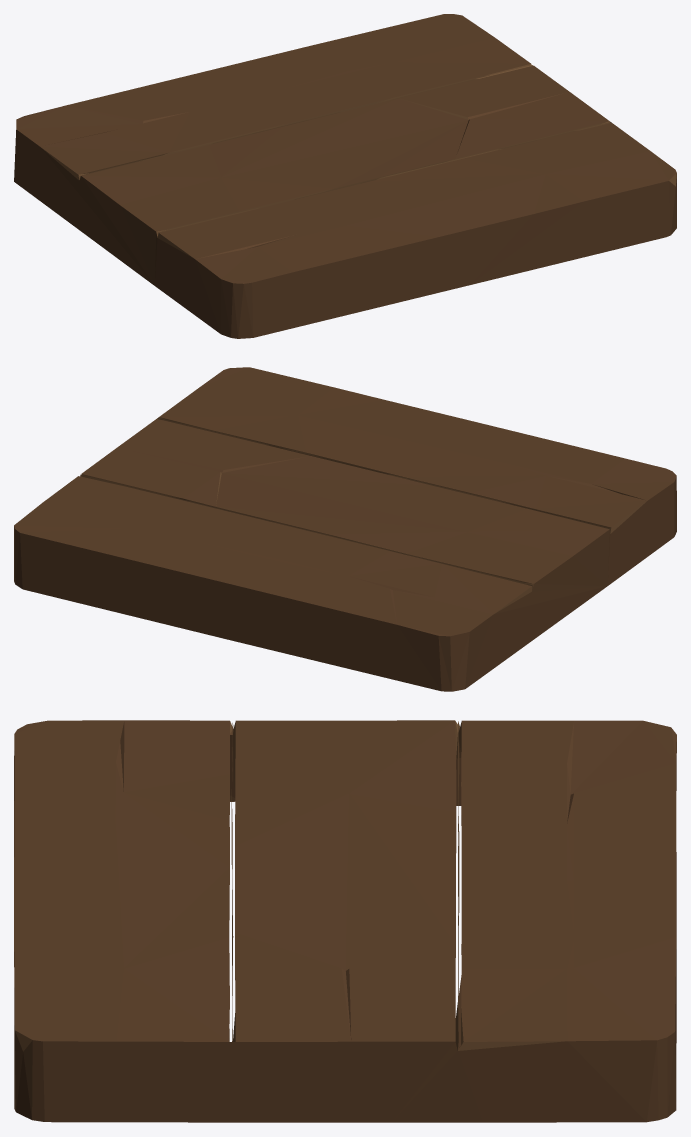
File: platform-2.glb
3 views of the same model, one above another, from view 1: azimuth 30°, elevation 25°; view 2: azimuth 150°, elevation 25°; view 3: azimuth 270°, elevation 25° (orthographic). The views are drawn at different scales.
Visible parts, largest first — view 1: output_unwrapped; view 2: output_unwrapped; view 3: output_unwrapped.
Part boxes in pixels (box(x1,y1,x2,y2)): output_unwrapped: box(14, 14, 676, 338); output_unwrapped: box(14, 367, 676, 691); output_unwrapped: box(14, 720, 676, 1122).
Bounding box in the file's own units: 3 × 0.3553 × 2.61.
